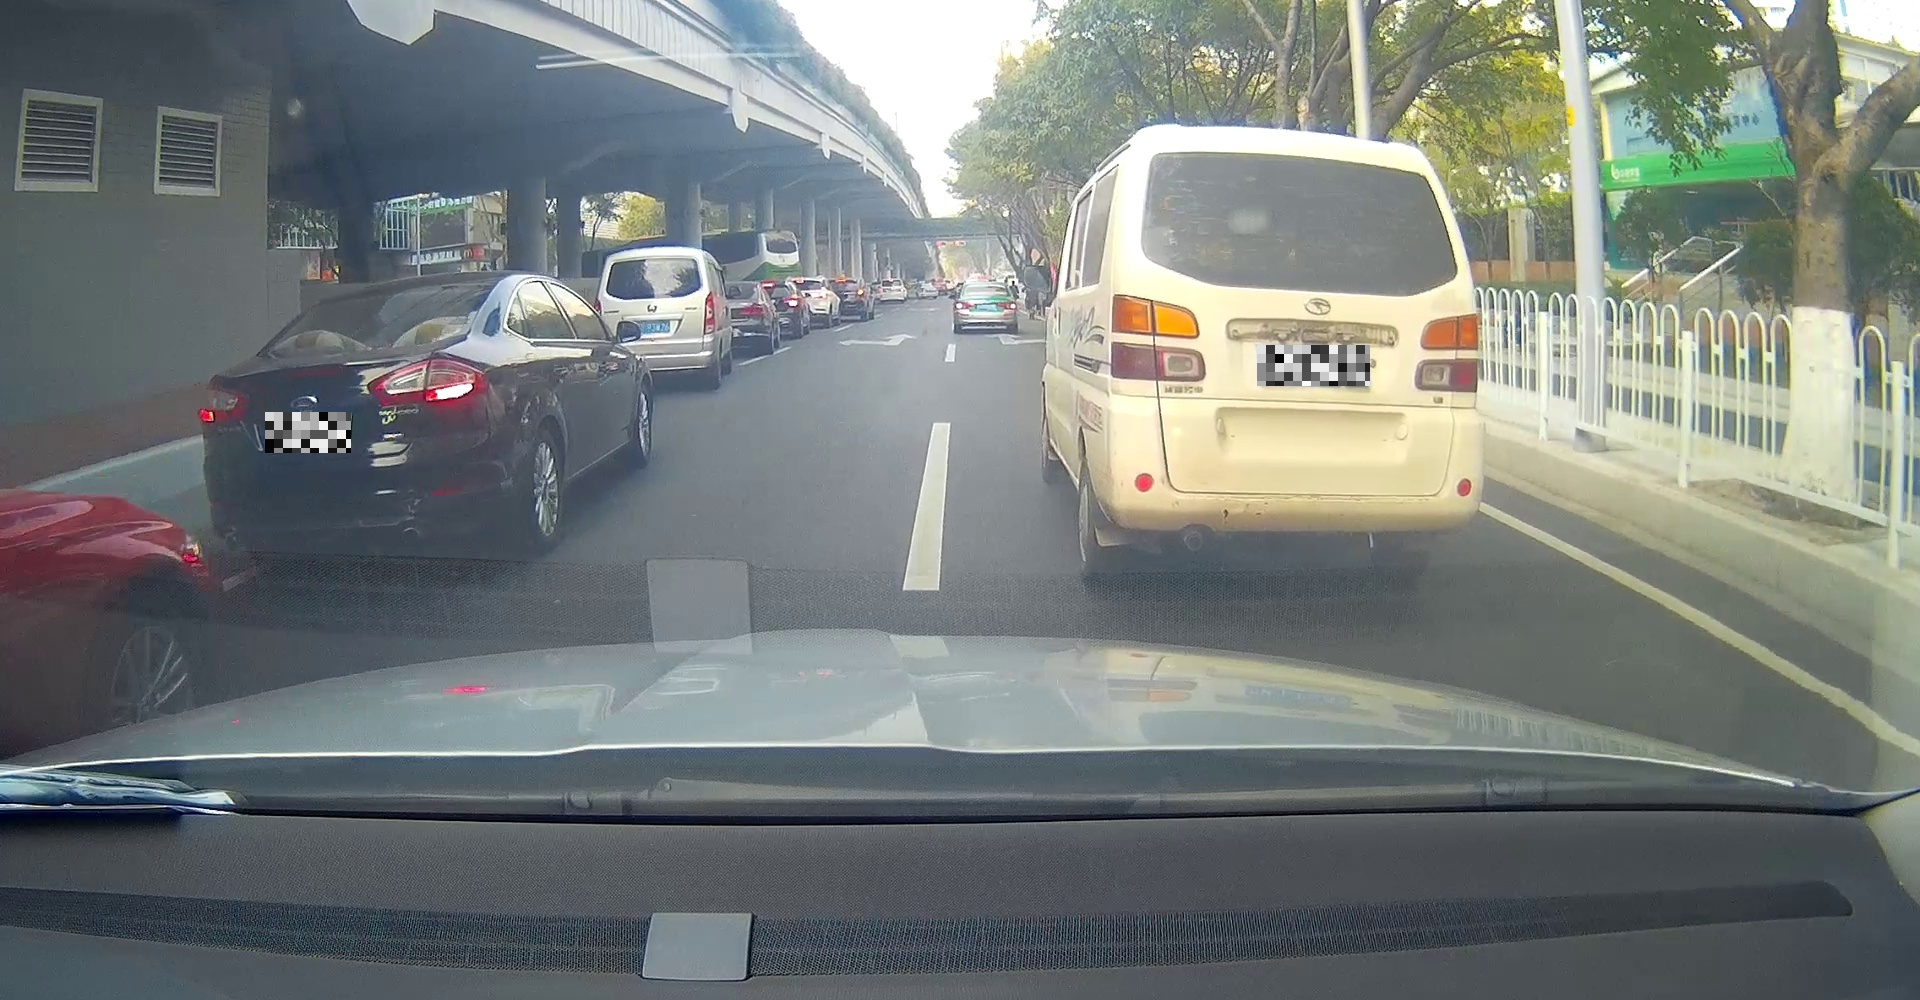L_light: (1110, 294, 1206, 381), (198, 386, 251, 425), (952, 302, 975, 310), (594, 298, 602, 319)
R_light: (366, 357, 488, 409), (1415, 313, 1479, 393), (702, 291, 715, 334), (998, 302, 1016, 311)
T_light: (1277, 155, 1338, 173), (290, 367, 343, 377), (643, 259, 663, 265), (979, 286, 990, 287)
day-no: (1107, 123, 1484, 577), (593, 246, 717, 390), (952, 282, 1017, 334)
night-brake: (197, 270, 502, 549)
plate_1: (265, 412, 350, 453)
plate_2: (1257, 345, 1370, 386)
